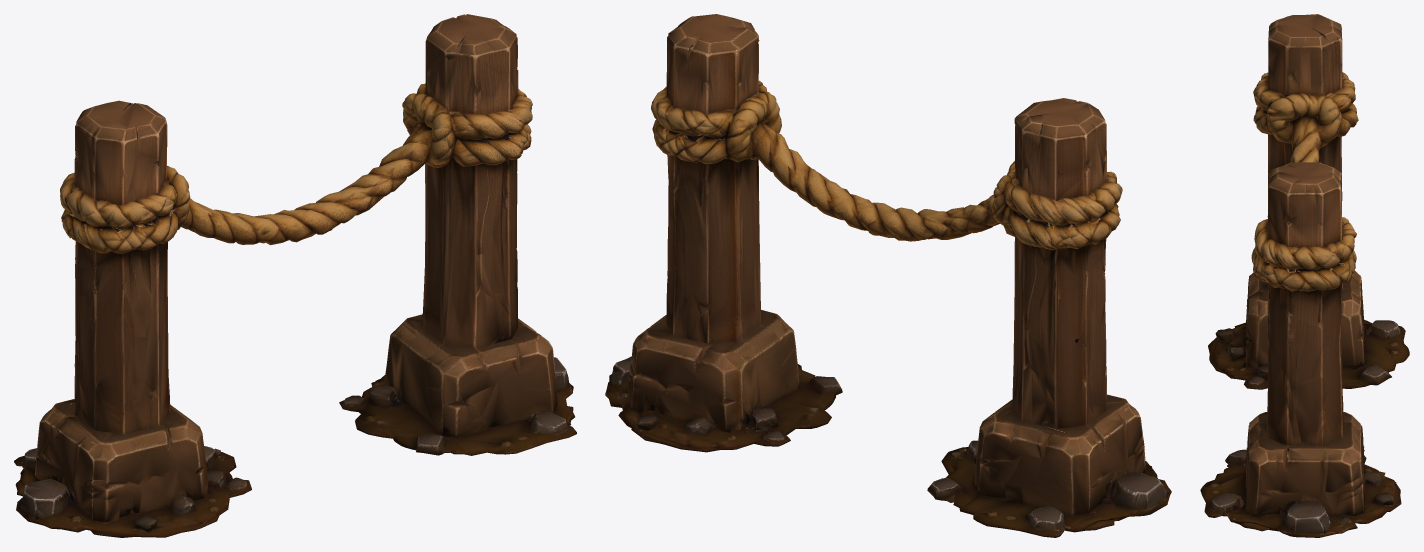
The model's file is barrera_de_cuerda_de_madera.glb.
3 views of the same model, side by side, from view 1: azimuth 30°, elevation 25°; view 2: azimuth 150°, elevation 25°; view 3: azimuth 270°, elevation 25° (orthographic). The views are drawn at different scales.
Parts seen in each view (by area): view 1: barrera_de_cuerda_de_madera; view 2: barrera_de_cuerda_de_madera; view 3: barrera_de_cuerda_de_madera.
Boxes of the visible parts, x1=… form: barrera_de_cuerda_de_madera: x1=14, y1=14, x2=576, y2=537; barrera_de_cuerda_de_madera: x1=605, y1=14, x2=1171, y2=537; barrera_de_cuerda_de_madera: x1=1200, y1=14, x2=1409, y2=537.
Size of what is drawn, in the model's own units: 1.51 by 1 by 0.5794.
1 material, 1 textured.
